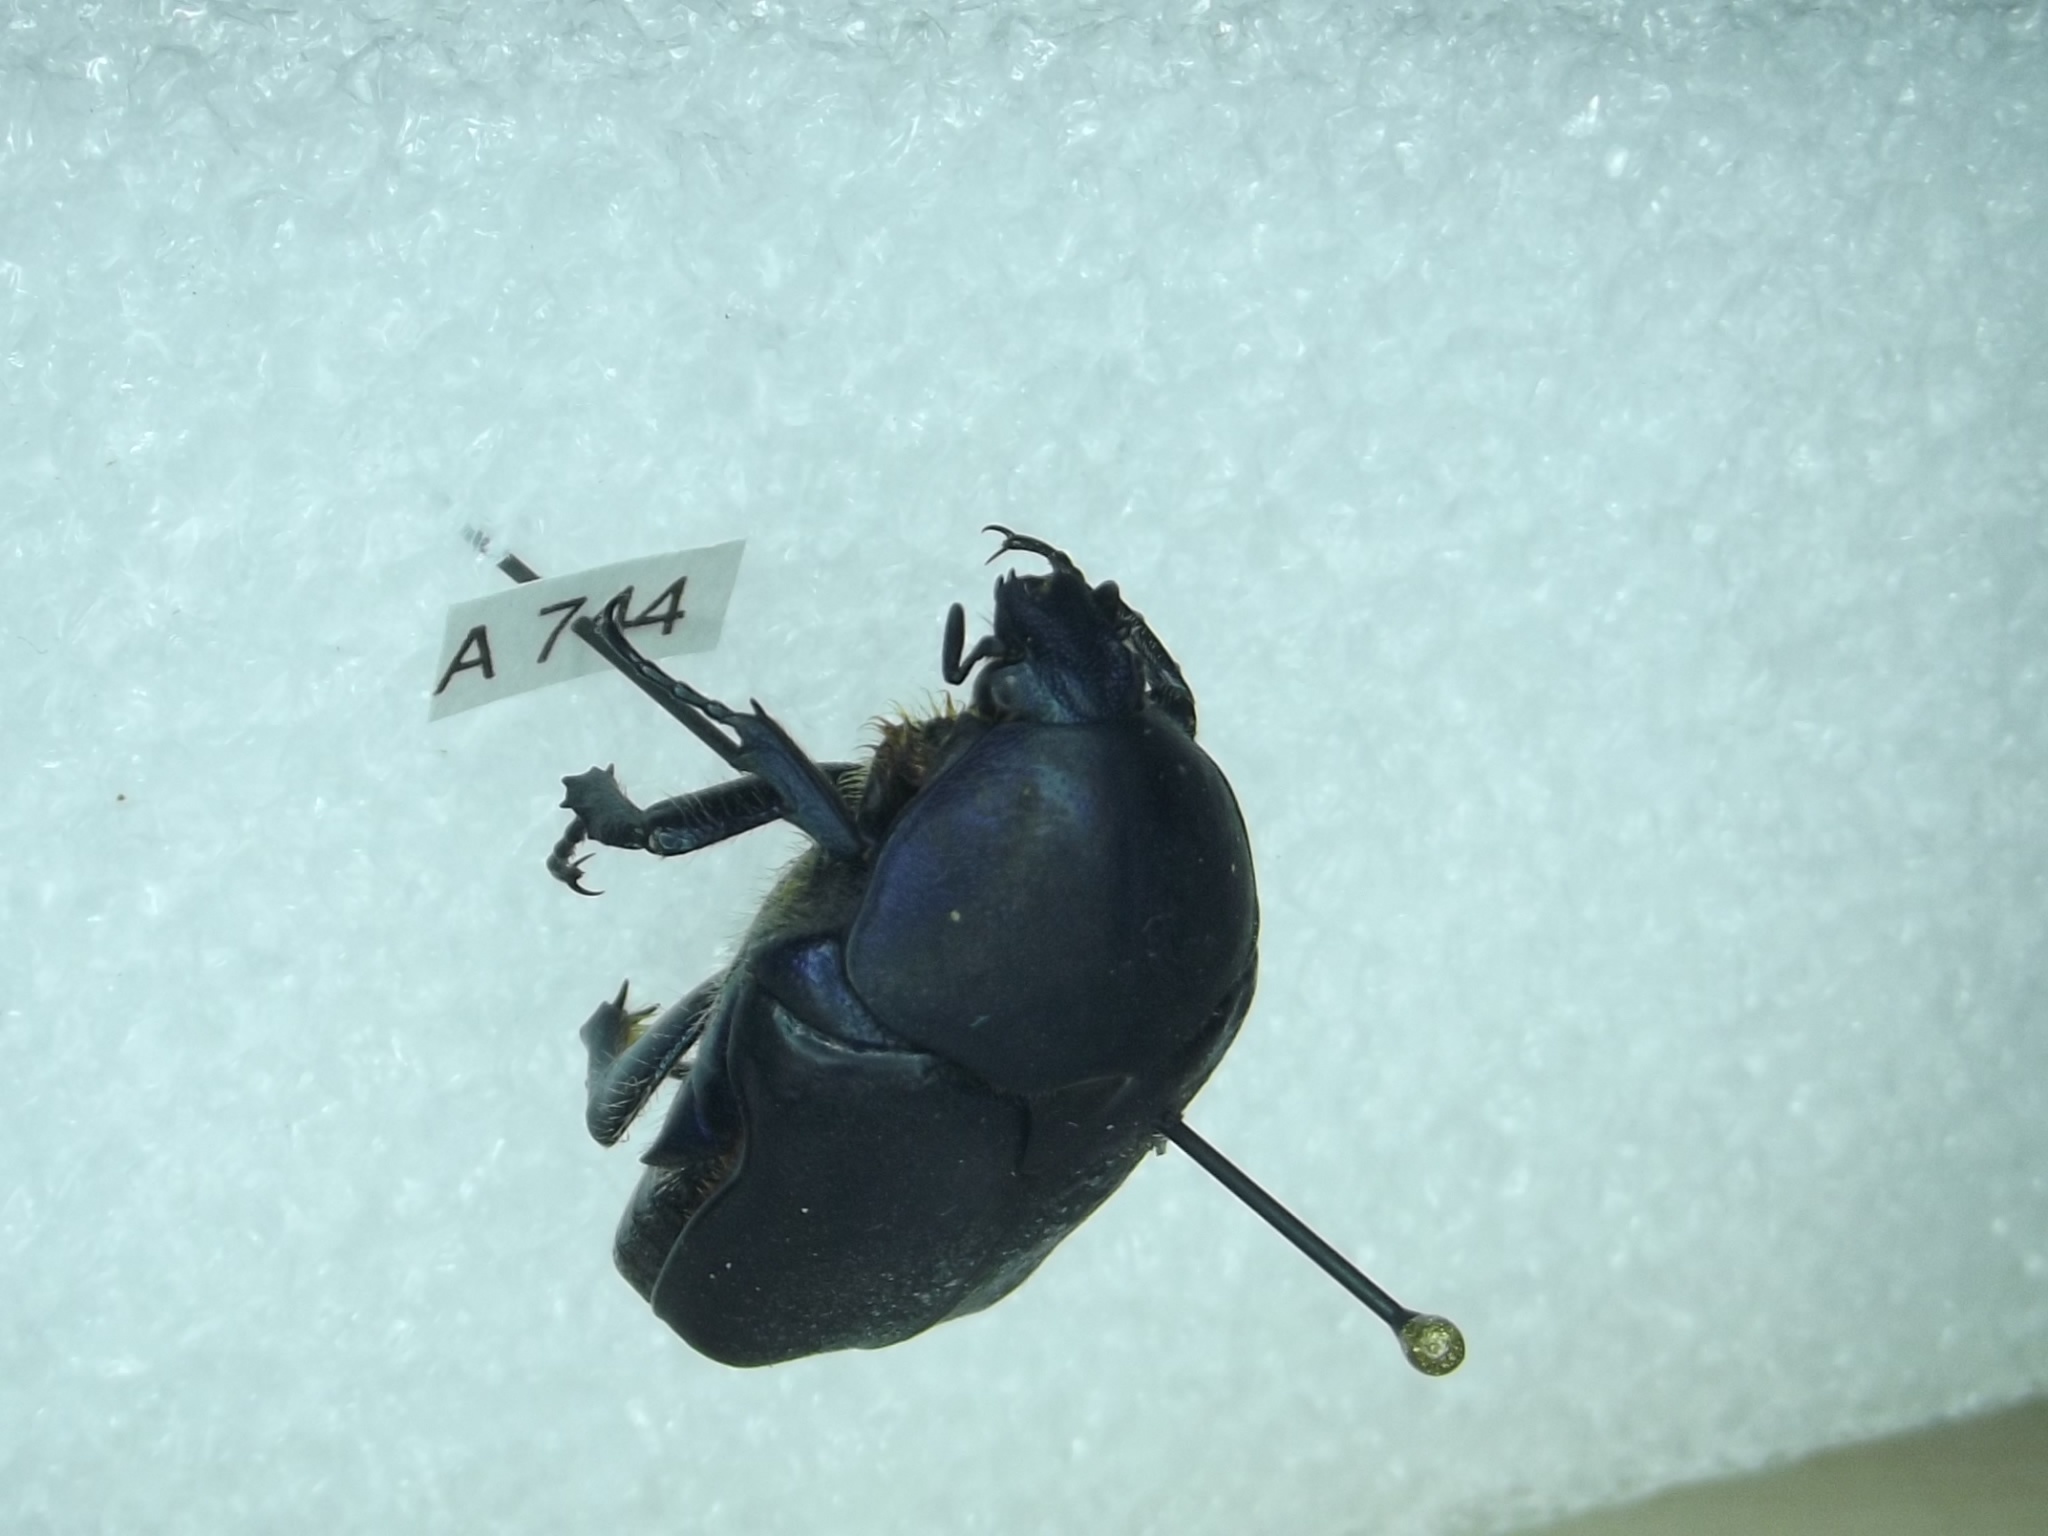Protaetia_afflicta: (543, 503, 1259, 1426)
